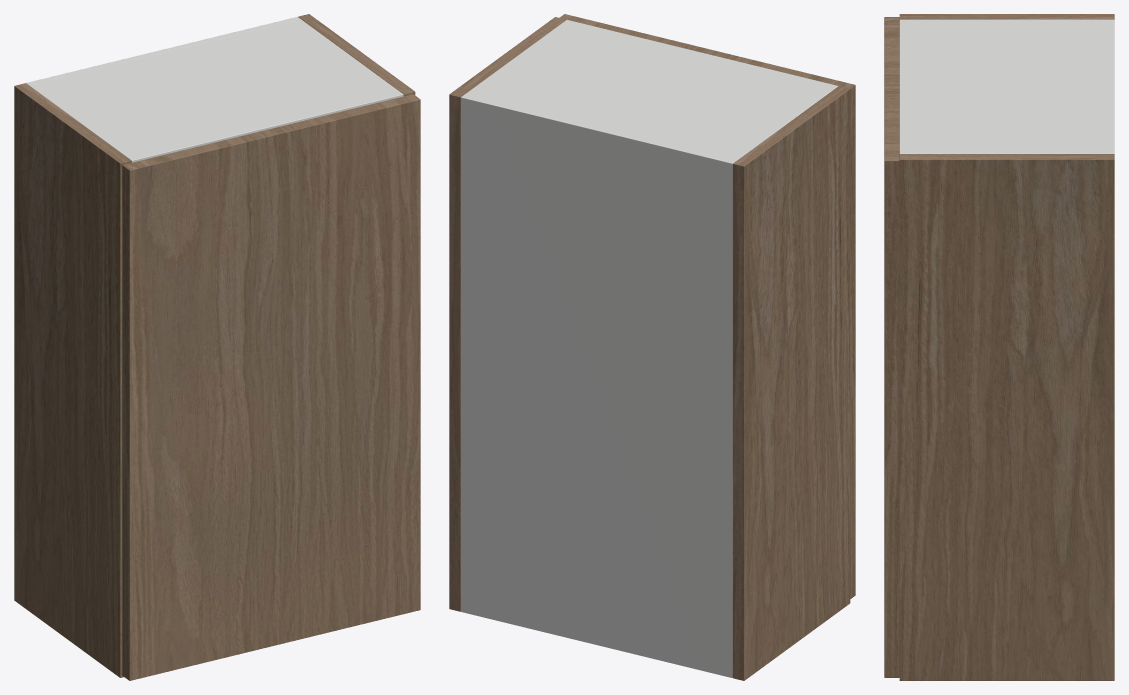
The model's file is oppein-pb-mnw-w1830.glb.
3 views of the same model, side by side, from view 1: azimuth 30°, elevation 25°; view 2: azimuth 150°, elevation 25°; view 3: azimuth 270°, elevation 25° (orthographic).
Visible parts, largest first — view 1: Door, Cabinet side, Cabinet top, Cabinet side.001, Cabinet back; view 2: Cabinet back, Cabinet side, Cabinet top, Cabinet side.001, Door; view 3: Cabinet side.001, Cabinet top, Door, Cabinet side, Cabinet back.
Boxes of the visible parts, <box> form: Door: <box>122,94,420,680</box>; Cabinet side: <box>14,83,131,677</box>; Cabinet top: <box>26,19,403,162</box>; Cabinet side.001: <box>298,14,415,96</box>; Cabinet back: <box>27,17,300,85</box>; Cabinet back: <box>461,95,735,677</box>; Cabinet side: <box>732,86,850,680</box>; Cabinet top: <box>461,20,838,174</box>; Cabinet side.001: <box>449,17,566,611</box>; Door: <box>559,14,855,598</box>; Cabinet side.001: <box>899,154,1114,680</box>; Cabinet top: <box>899,19,1114,153</box>; Door: <box>884,17,899,677</box>; Cabinet side: <box>899,14,1114,19</box>; Cabinet back: <box>1106,19,1114,153</box>.
Size of the model in its own units: 0.4572 by 0.762 by 0.3048.
Materials: 2 (1 with a texture image).
